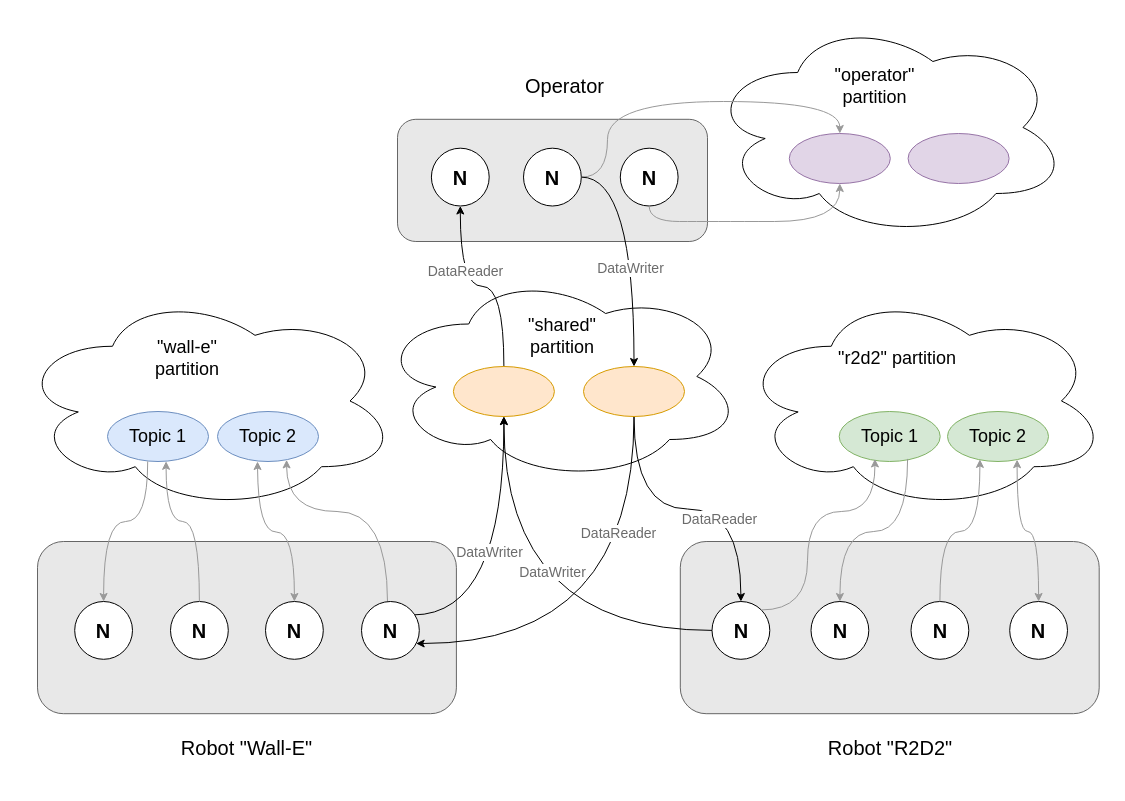
Image size: 1125x801. Some labels were removed from this diagram. The centre of each missing label's shape, as x and y in pixels:
"Topic 3" belongs at point (503, 391).
"Topic 4" belongs at point (633, 391).
"Topic 5" belongs at point (839, 158).
"Topic 6" belongs at point (958, 158).
